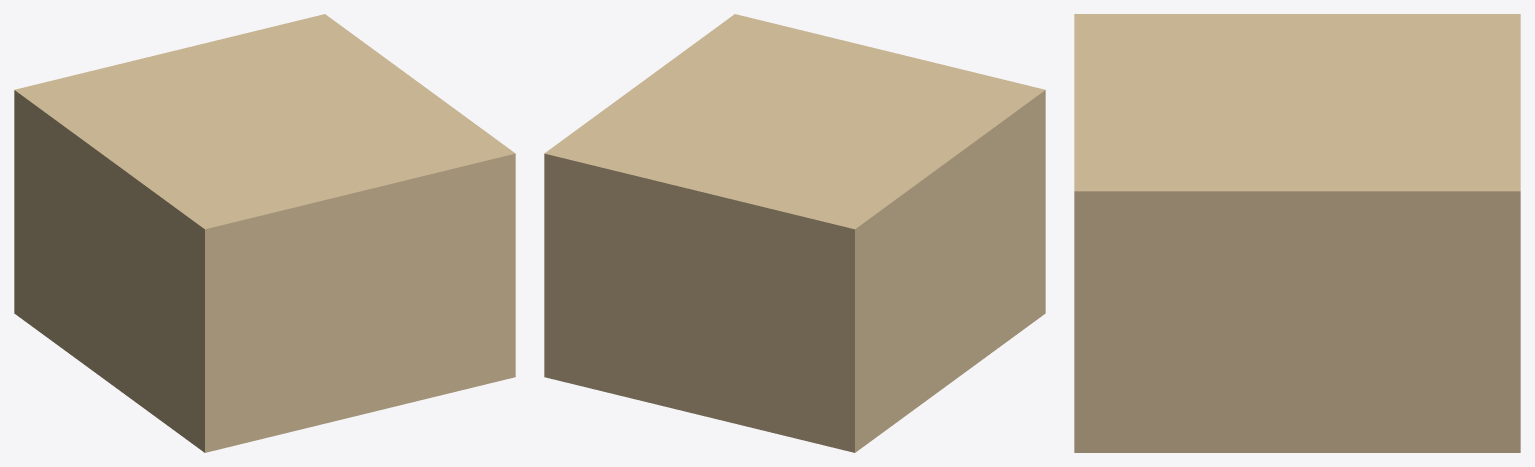
Rendered from prop_gut_cup_flipped_lod2.glb.
3 views of the same model, side by side, from view 1: azimuth 30°, elevation 25°; view 2: azimuth 150°, elevation 25°; view 3: azimuth 270°, elevation 25° (orthographic). The views are drawn at different scales.
Visible parts, largest first — view 1: prop_gut_cup_flipped_lod2; view 2: prop_gut_cup_flipped_lod2; view 3: prop_gut_cup_flipped_lod2.
Boxes of the visible parts, x1,y1,x2,y2 form: prop_gut_cup_flipped_lod2: (14, 14, 515, 452); prop_gut_cup_flipped_lod2: (544, 14, 1045, 452); prop_gut_cup_flipped_lod2: (1074, 14, 1520, 452).
Size of the model in its own units: 0.32 by 0.22 by 0.34.
